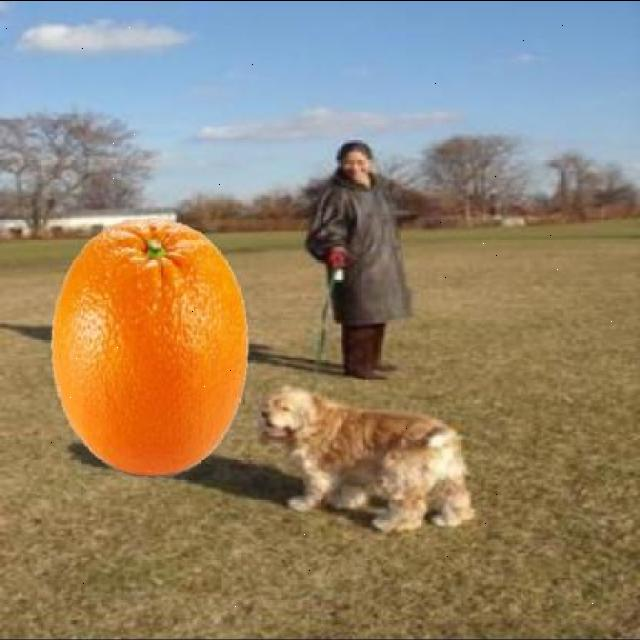Orange: (48, 216, 248, 478)
